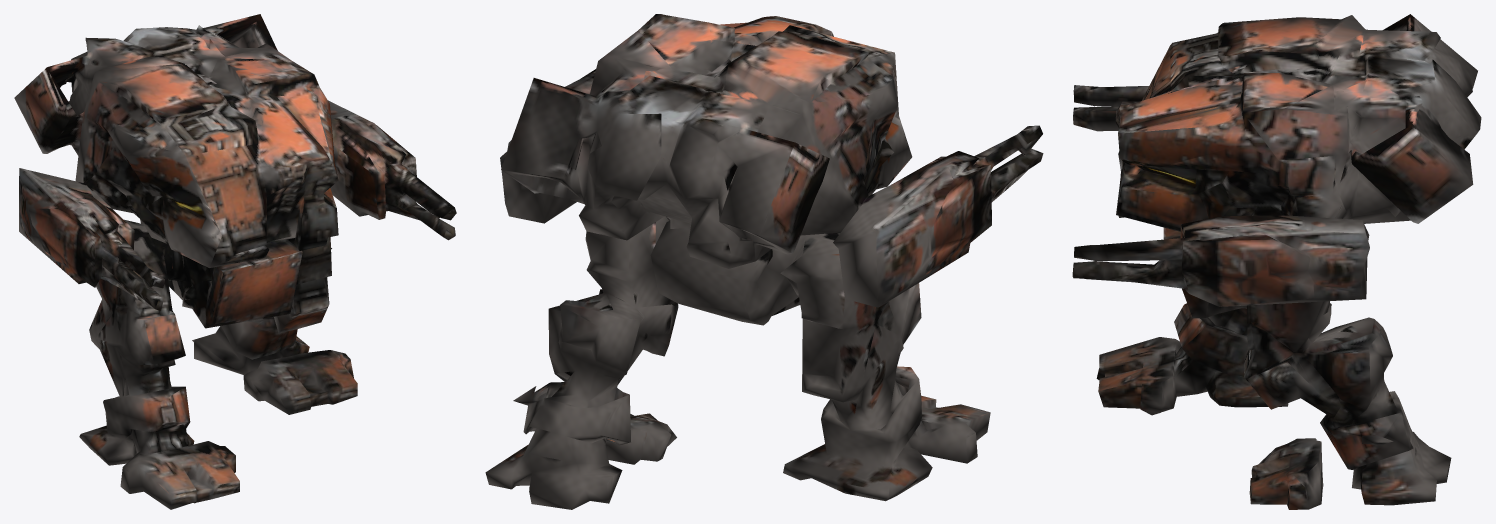
Rendered from grit_lod2.glb.
3 views of the same model, side by side, from view 1: azimuth 30°, elevation 25°; view 2: azimuth 150°, elevation 25°; view 3: azimuth 270°, elevation 25° (orthographic). The views are drawn at different scales.
Visible parts, largest first — view 1: geometry_0; view 2: geometry_0; view 3: geometry_0.
Boxes of the visible parts, <box> form: geometry_0: <box>14,14,456,509</box>; geometry_0: <box>485,14,1043,509</box>; geometry_0: <box>1072,14,1481,509</box>.
Bounding box in the file's own units: 1.99 × 1.98 × 1.91.
Materials: 1 (1 with a texture image).
